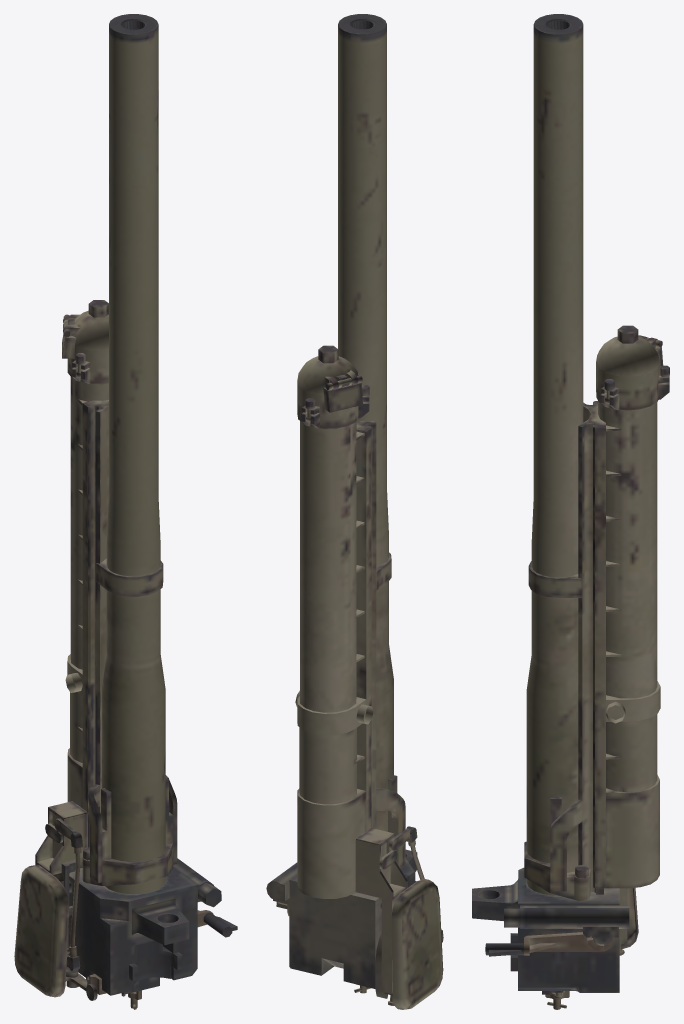
Rendered from Gun_02.glb.
The picture shows the model from 3 angles, left to right: view 1: azimuth 30°, elevation 25°; view 2: azimuth 150°, elevation 25°; view 3: azimuth 270°, elevation 25°; orthographic projection.
Parts seen in each view (by area): view 1: set_0_group_0; view 2: set_0_group_0; view 3: set_0_group_0.
Boxes of the visible parts, <box> form: set_0_group_0: <box>14,14,237,1009</box>; set_0_group_0: <box>266,14,443,1009</box>; set_0_group_0: <box>472,14,669,1009</box>.
Size of the model in its own units: 0.4384 by 2.72 by 0.4958.
1 material, 1 textured.
